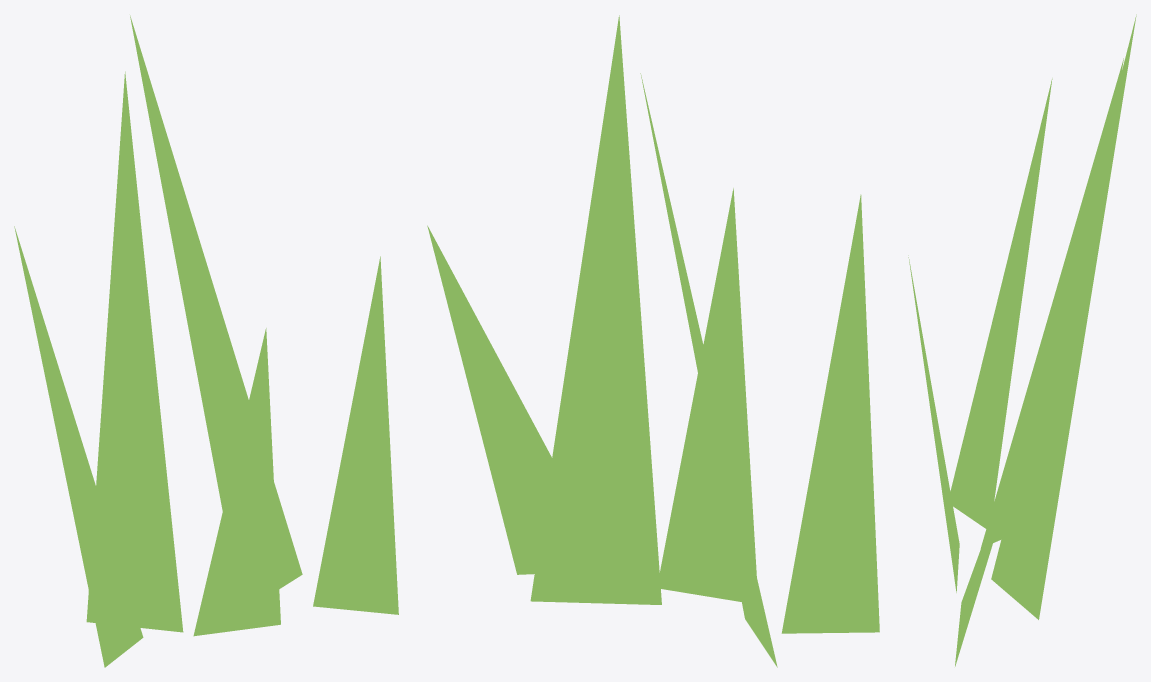
Rendered from Grass_c_TwoS_04.fbx.
3 views of the same model, side by side, from view 1: azimuth 30°, elevation 25°; view 2: azimuth 150°, elevation 25°; view 3: azimuth 270°, elevation 25° (orthographic). The views are drawn at different scales.
Visible parts, largest first — view 1: Grass_c_TwoS_04; view 2: Grass_c_TwoS_04; view 3: Grass_c_TwoS_04.
Boxes of the visible parts, x1,y1,x2,y2 form: Grass_c_TwoS_04: (14,15,398,667); Grass_c_TwoS_04: (427,15,879,667); Grass_c_TwoS_04: (908,14,1136,666).
Bounding box in the file's own units: 0.4208 × 0.6379 × 0.2322.
